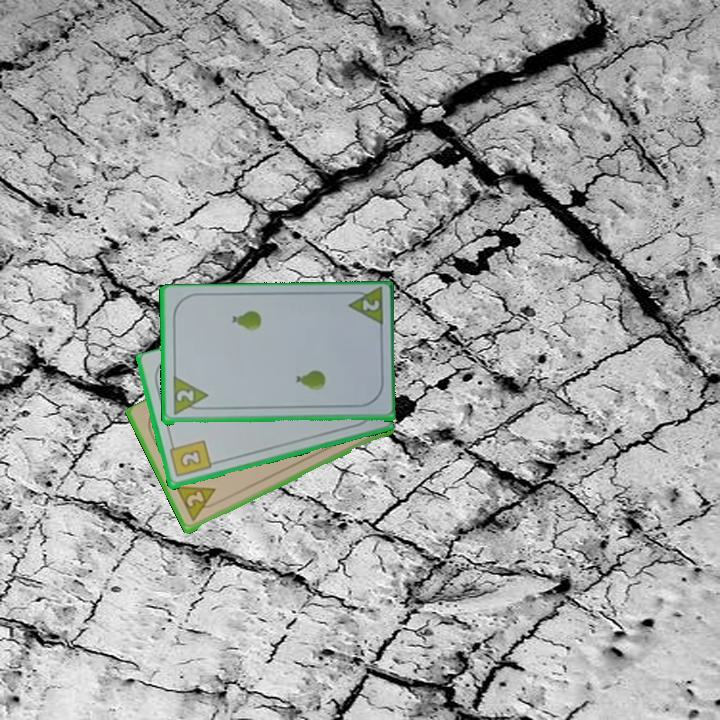2b: (166, 437, 214, 480)
2p: (173, 483, 223, 524), (343, 286, 386, 331), (173, 387, 196, 406)
